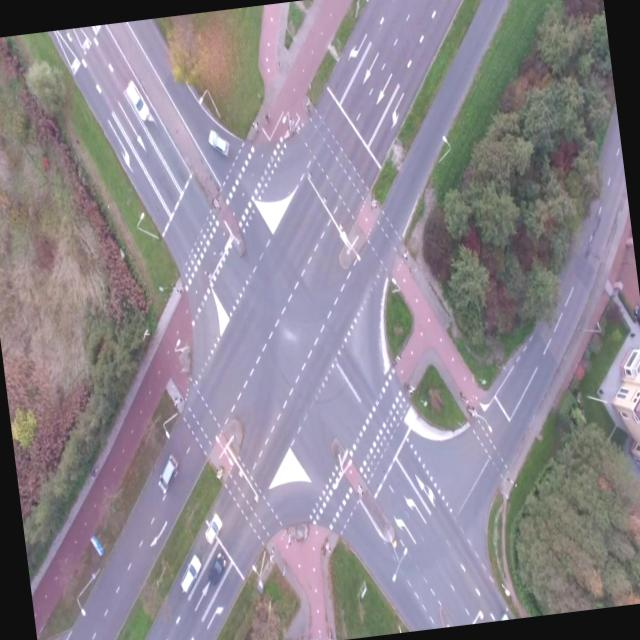car: (121, 76, 152, 124), (176, 551, 207, 595), (154, 452, 184, 492), (204, 544, 230, 586), (204, 124, 232, 159), (200, 510, 225, 544)
